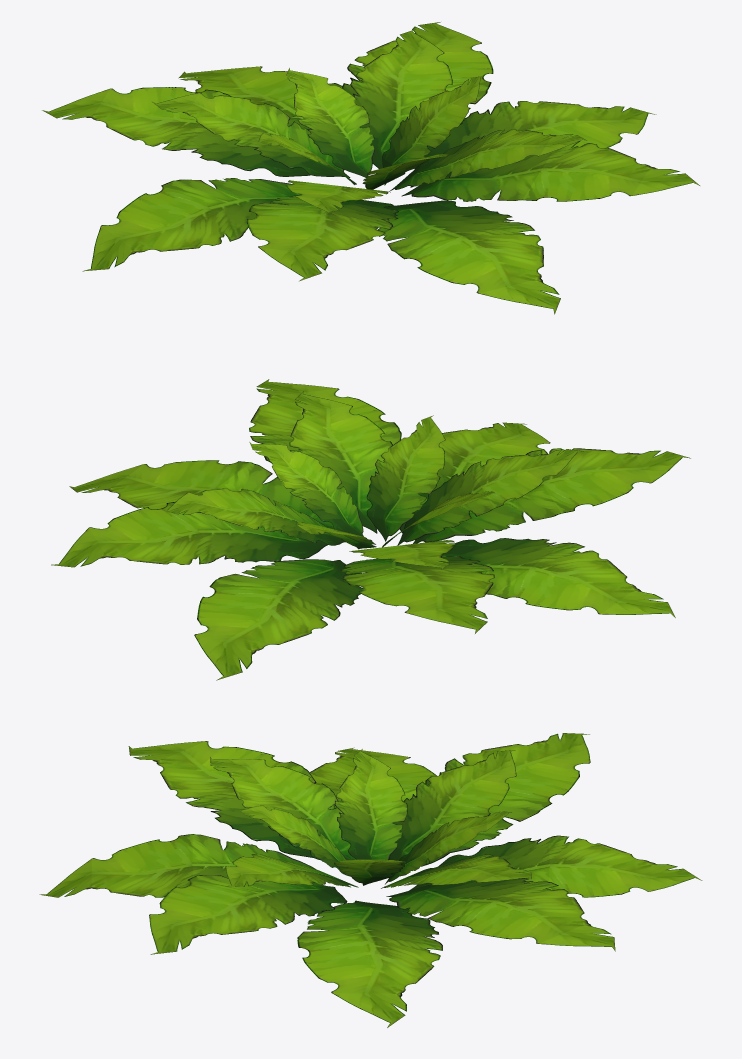
The model's file is Hemp_14.fbx.
3 renders of one model, top to bottom at view 1: azimuth 30°, elevation 25°; view 2: azimuth 150°, elevation 25°; view 3: azimuth 270°, elevation 25°, orthographic. The views are drawn at different scales.
Visible parts, largest first — view 1: Hemp_14; view 2: Hemp_14; view 3: Hemp_14.
Part boxes in pixels (x1,y1,x2,y2): Hemp_14: [42, 22, 699, 314]; Hemp_14: [51, 379, 690, 680]; Hemp_14: [39, 733, 702, 1027].
Bounding box in the file's own units: 360 × 51.62 × 360.
